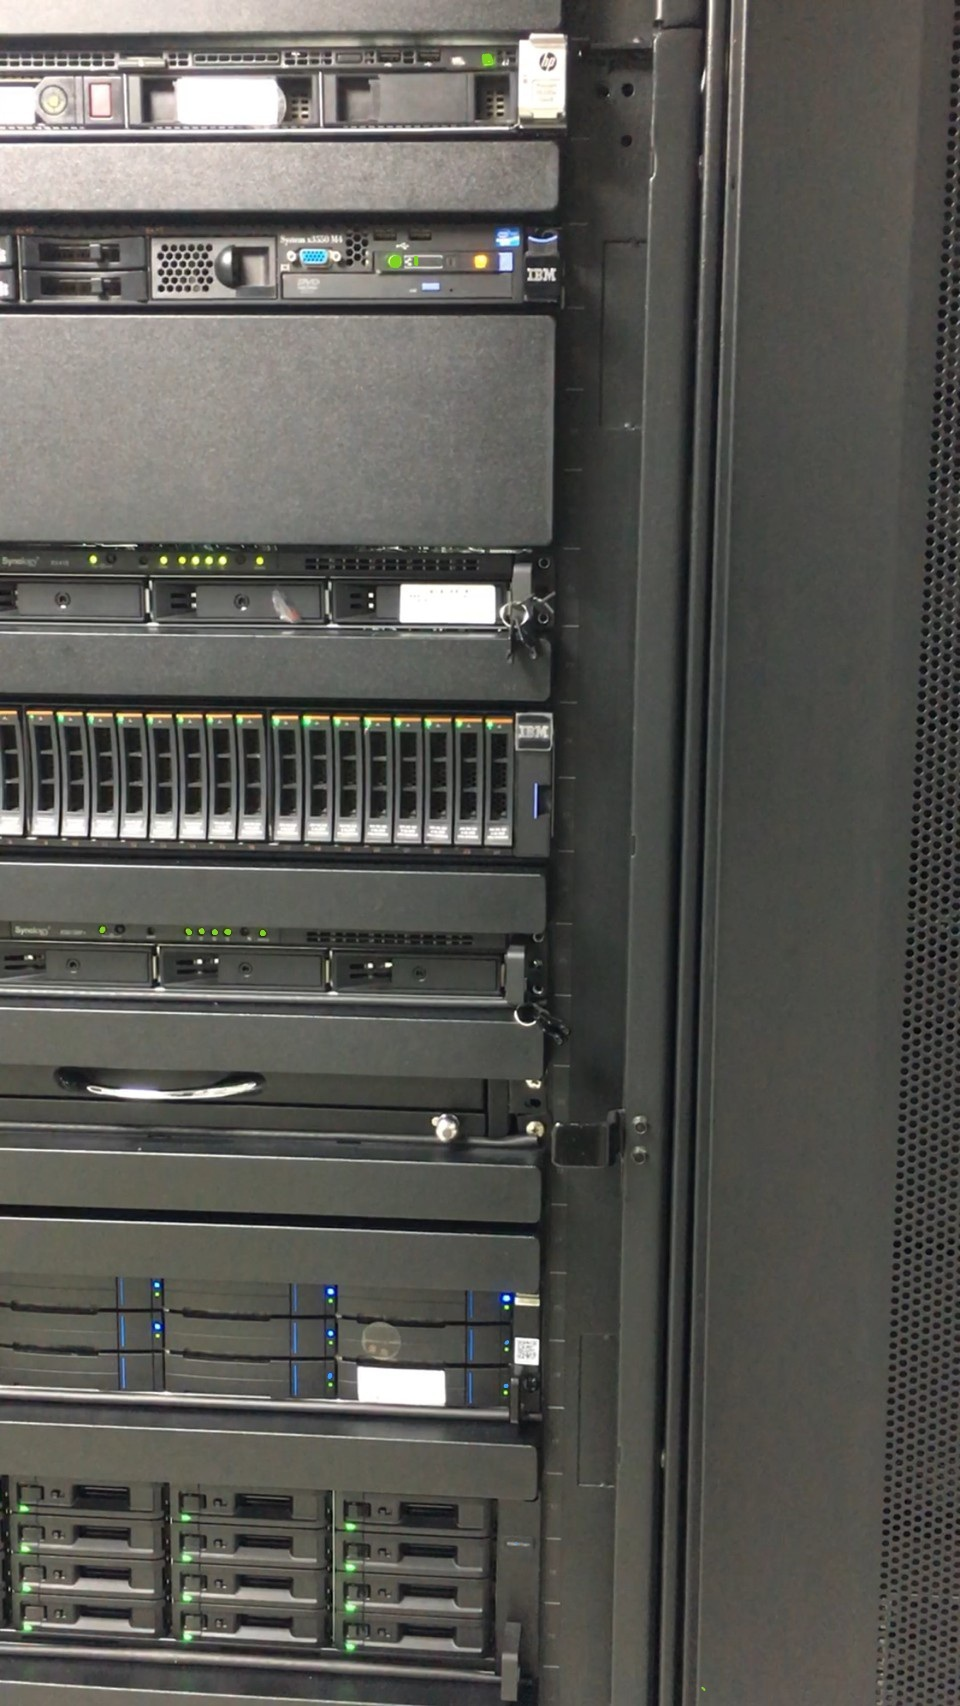HDD_Notused: (12, 231, 154, 274), (15, 269, 151, 306)
